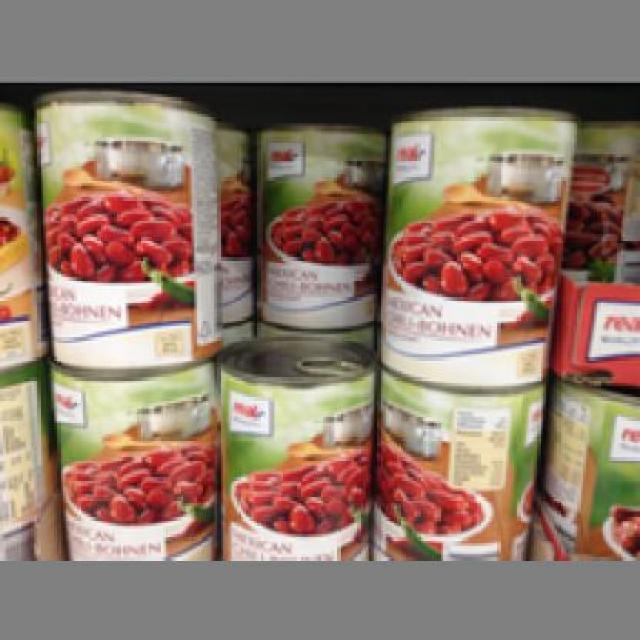Beans: (28, 86, 221, 372), (383, 106, 574, 394), (215, 334, 372, 557), (46, 372, 214, 558), (383, 372, 543, 554), (249, 116, 377, 330)
